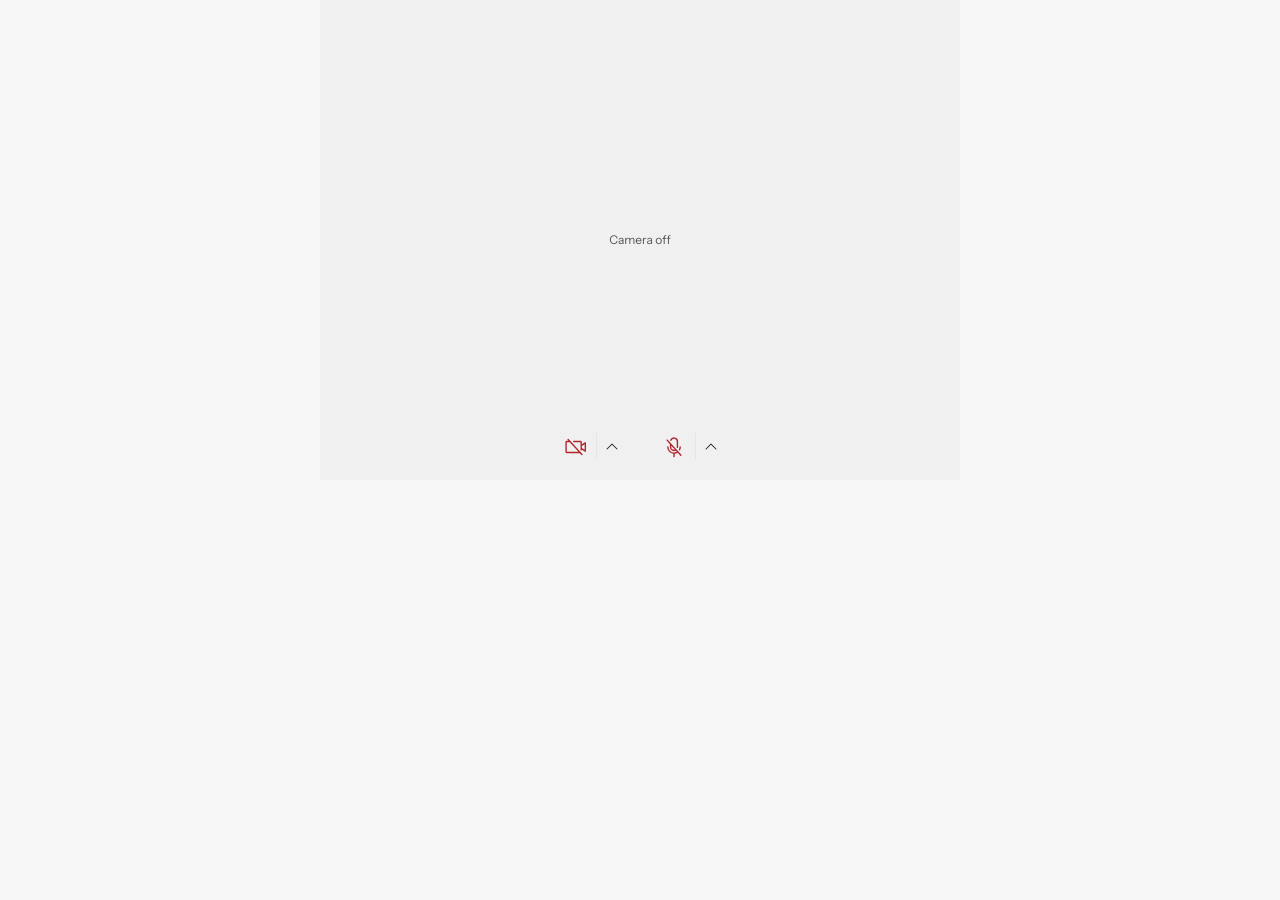
Test: media controls acceptance › keeps device settings available when the selected camera is unavailable
The image size is (1280, 900).
Click the button named "Turn on camera": (575, 447) [553, 425, 597, 469]
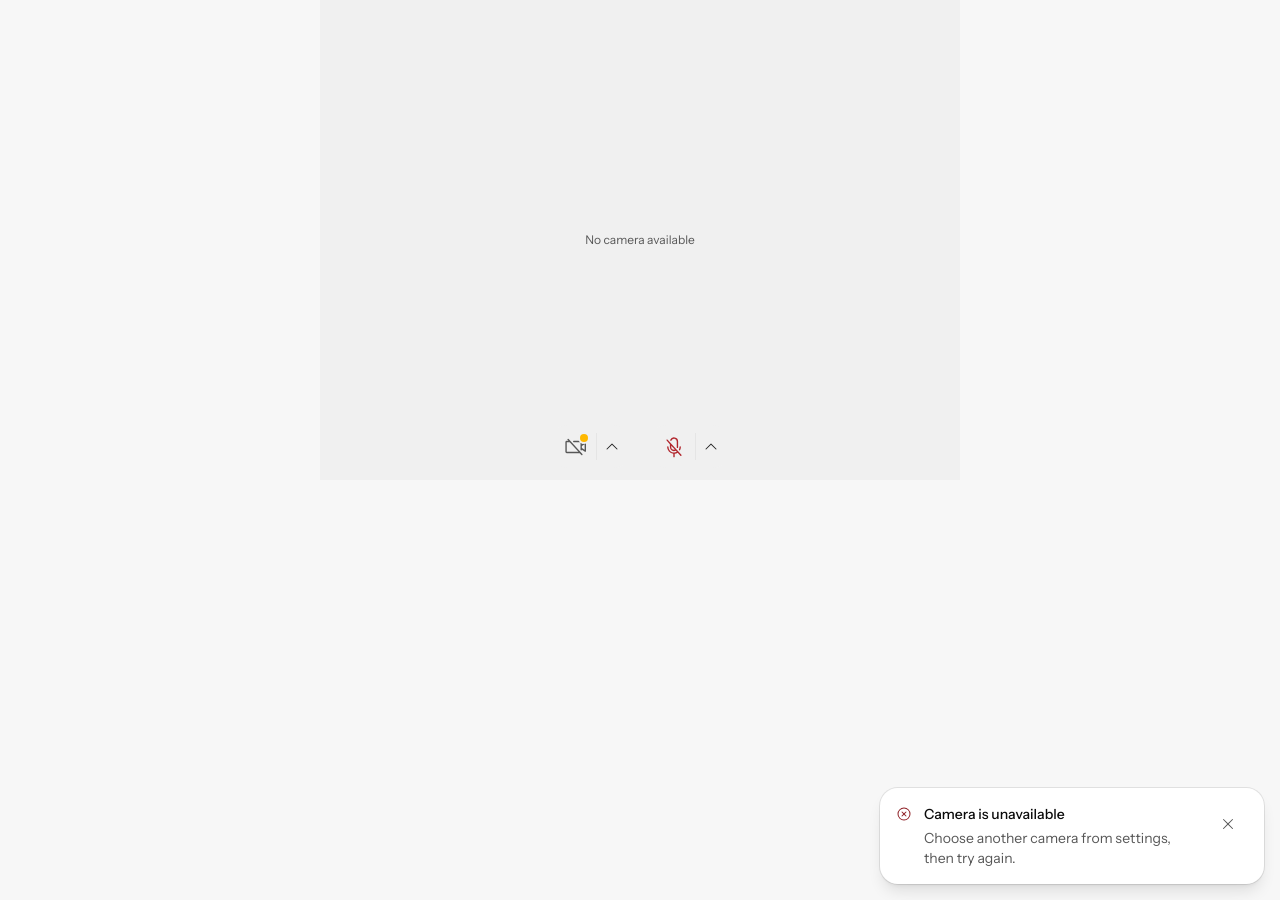
Expected: the button named "Open camera settings" is enabled, [597, 425, 628, 469]
Expected: the button named "Camera unavailable" is disabled, [553, 425, 597, 469]
